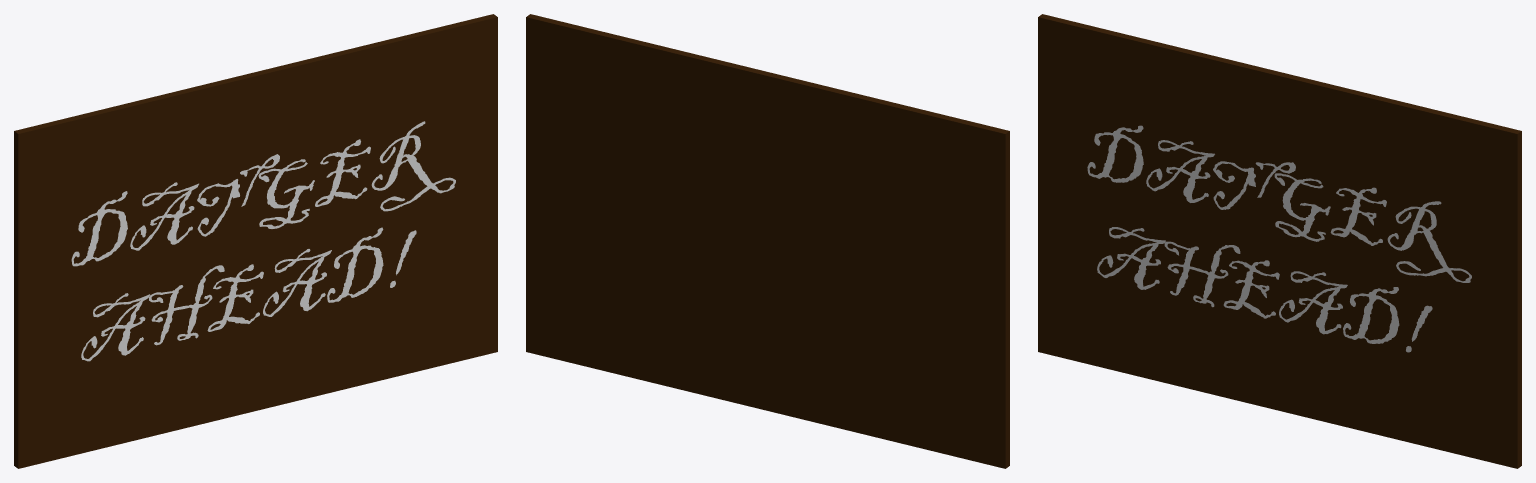
Rendered from BOARD.fbx.
3 views of the same model, side by side, from view 1: azimuth 30°, elevation 25°; view 2: azimuth 150°, elevation 25°; view 3: azimuth 330°, elevation 25° (orthographic).
Visible parts, largest first — view 1: BOARD, DANGER; view 2: BOARD; view 3: BOARD, DANGER.
Boxes of the visible parts, x1,y1,x2,y2 form: BOARD: (14, 14, 497, 468); DANGER: (71, 121, 455, 361); BOARD: (526, 14, 1009, 468); BOARD: (1038, 14, 1521, 468); DANGER: (1087, 125, 1471, 352).
Bounding box in the file's own units: 508 × 339 × 11.36.
